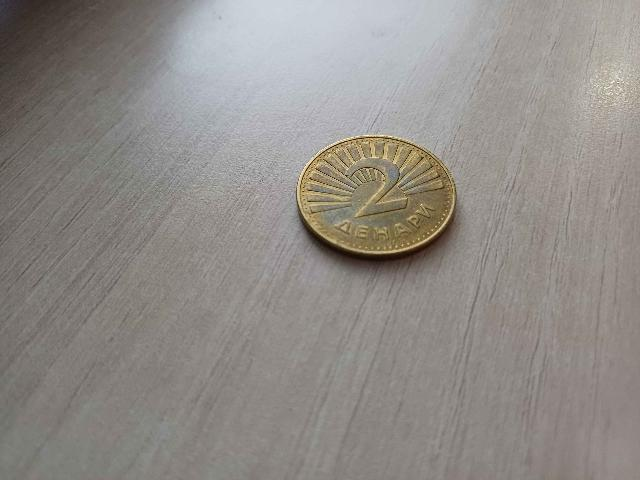2_coin: (297, 136, 456, 256)
